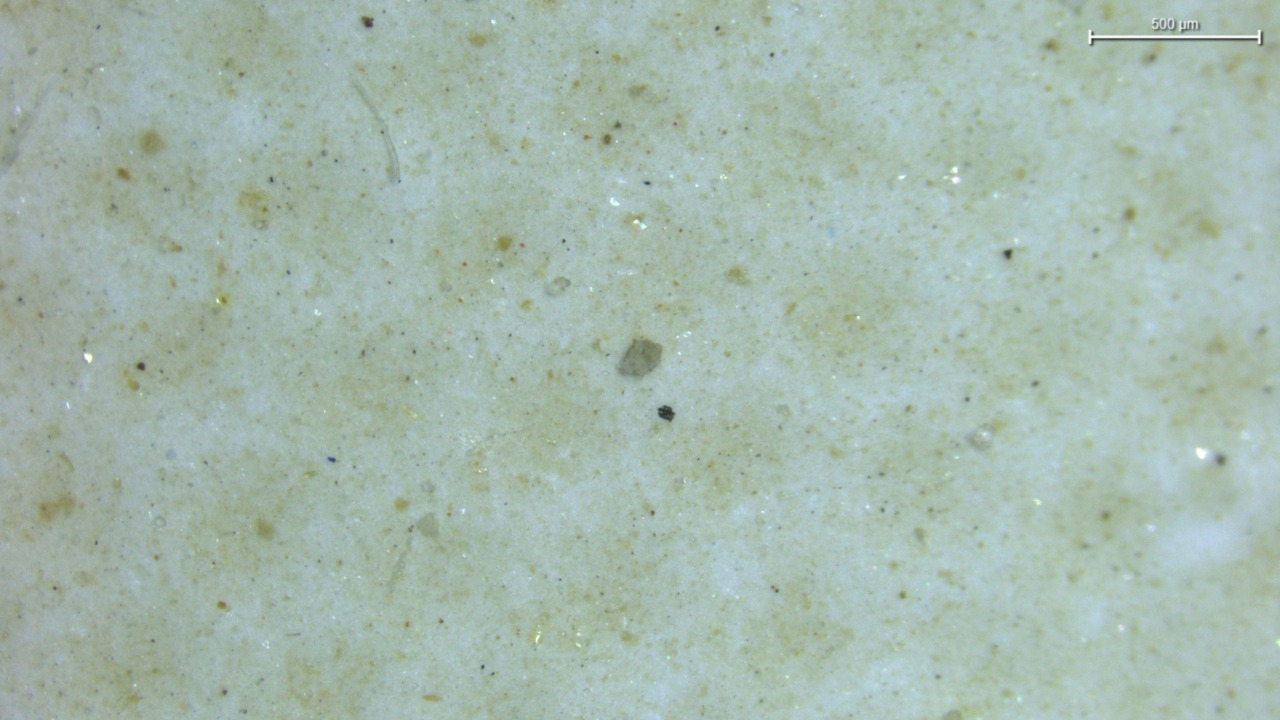microplastic_fragment: (619, 339, 662, 377), (544, 276, 571, 296)
